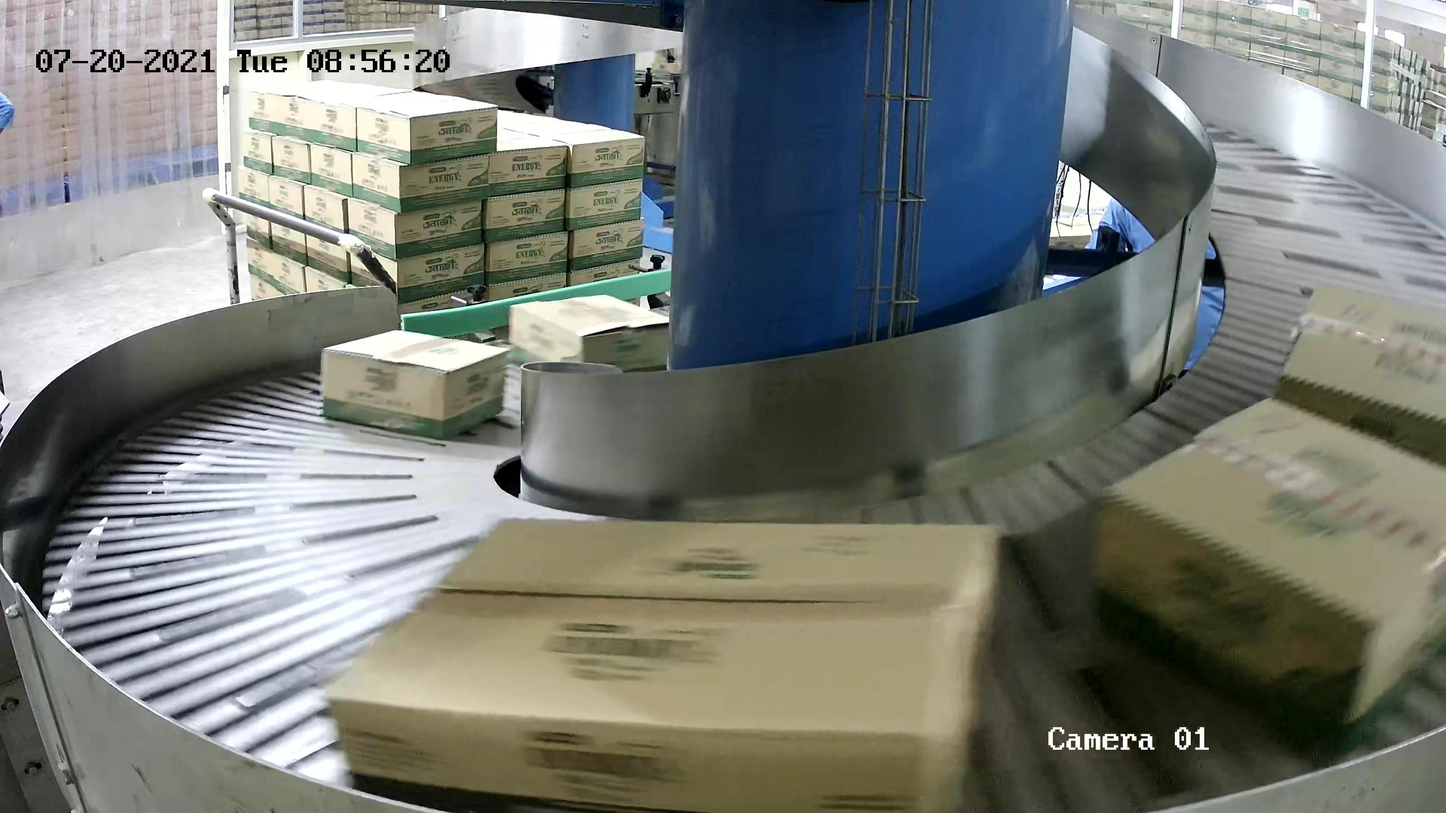Box: (321, 512, 999, 813), (1091, 393, 1446, 768), (320, 329, 508, 440), (507, 293, 669, 372)
